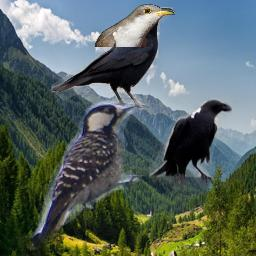Crow: (51, 7, 173, 108), (148, 97, 233, 194)
Cuckoo: (95, 4, 175, 47)
Woodpecker: (23, 95, 147, 255)
